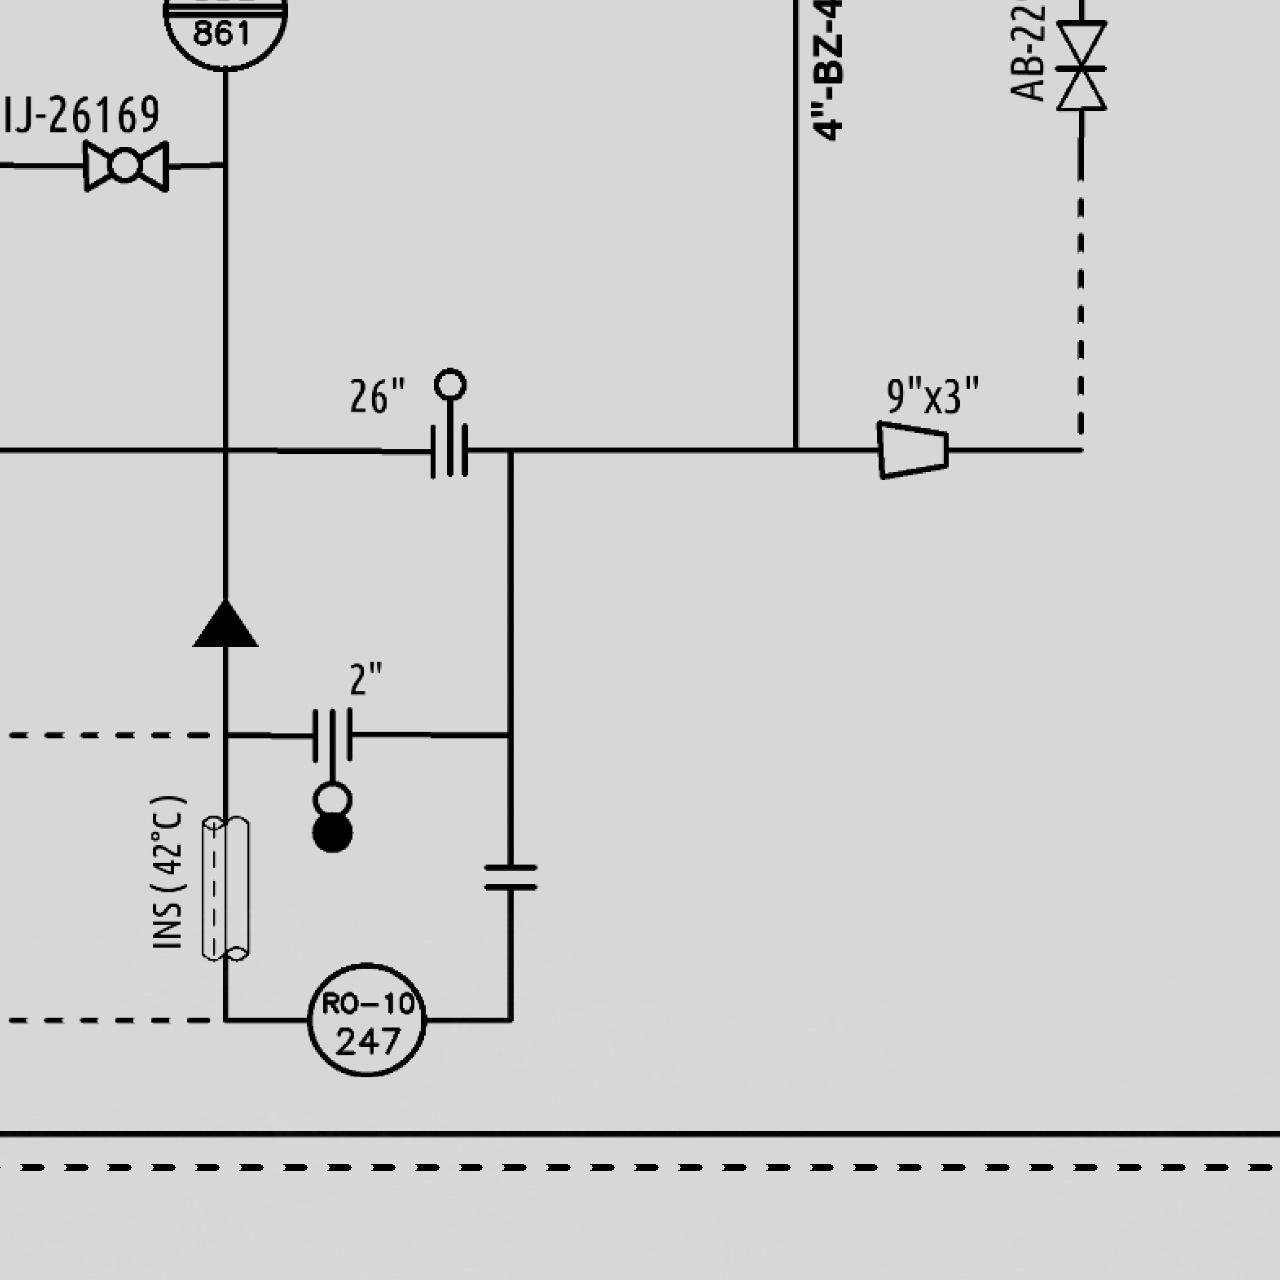Control-Panel: (302, 955, 429, 1082)
